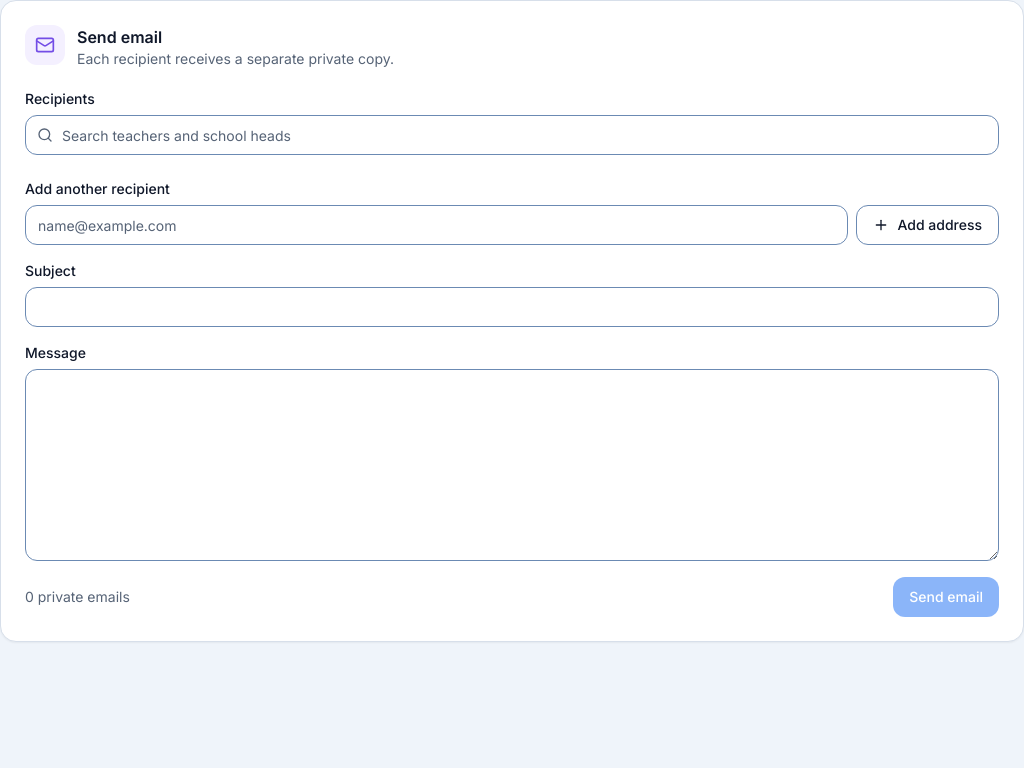
Test: AdminEmailComposer › combines selected staff and a manual address into private deliveries
Step 1. Type "Ana" into the search field labelled "Search teachers and school heads" → (512, 135), box [25, 115, 999, 155]
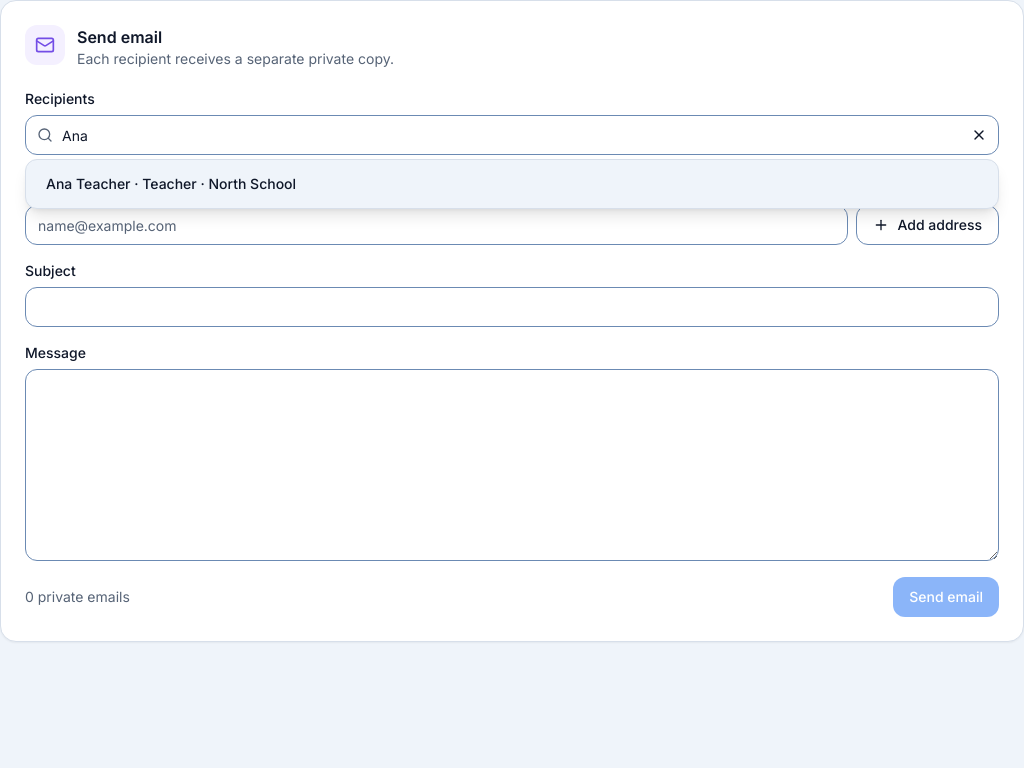
Step 2. Click the button "Ana Teacher · Teacher · North School" → (88, 184), box [30, 164, 994, 204]
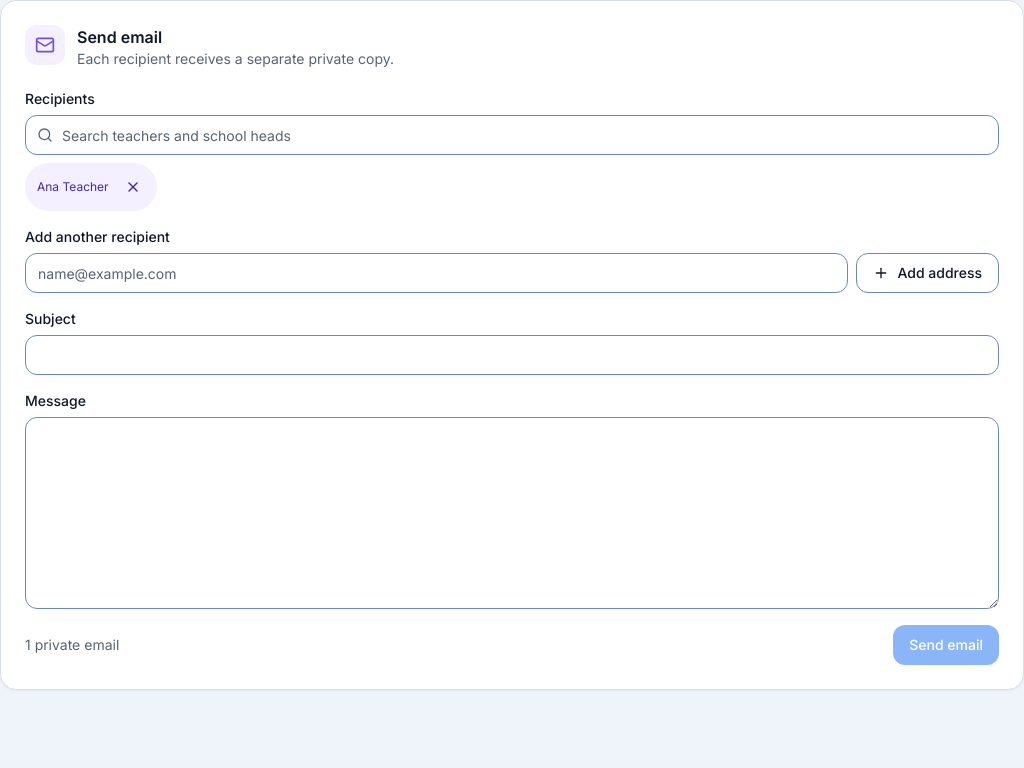
Step 3. Type "Outside@Example.com" into the field named "New email address" → (437, 273), box [25, 253, 848, 293]
Step 4. Click the button "Add address" → (928, 273), box [856, 253, 999, 293]
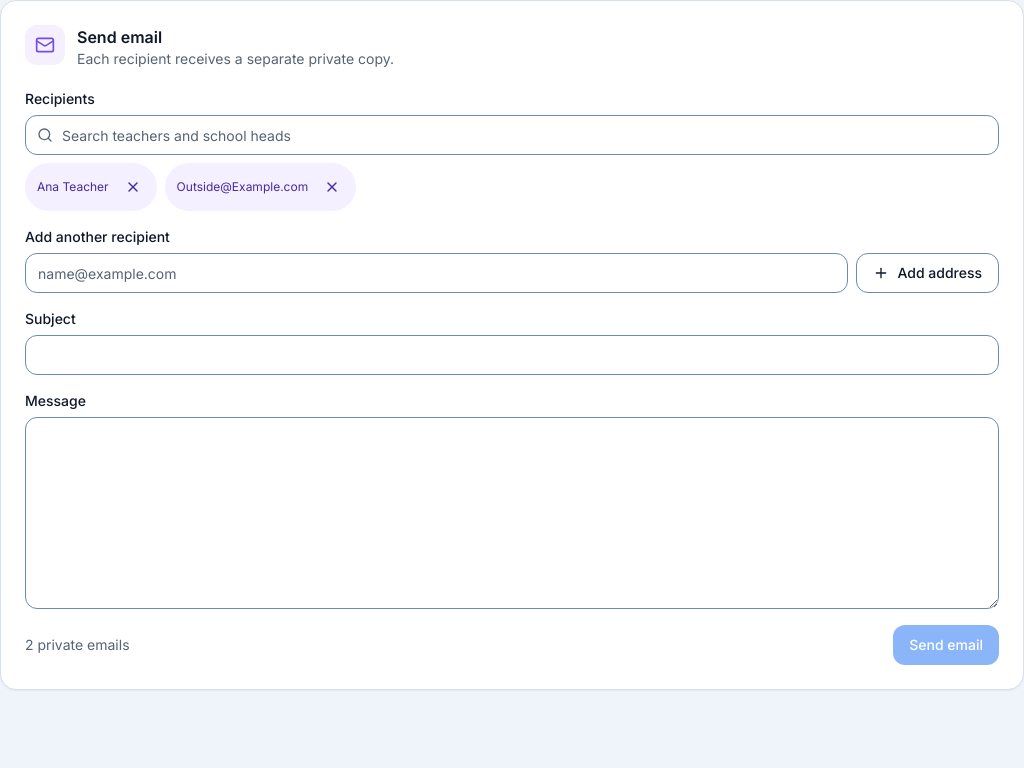
Expected: the text "2 private emails" is shown, [25, 635, 130, 655]
Step 5. Type "Notice" into the field labelled "Subject" → (512, 355), box [25, 335, 999, 375]
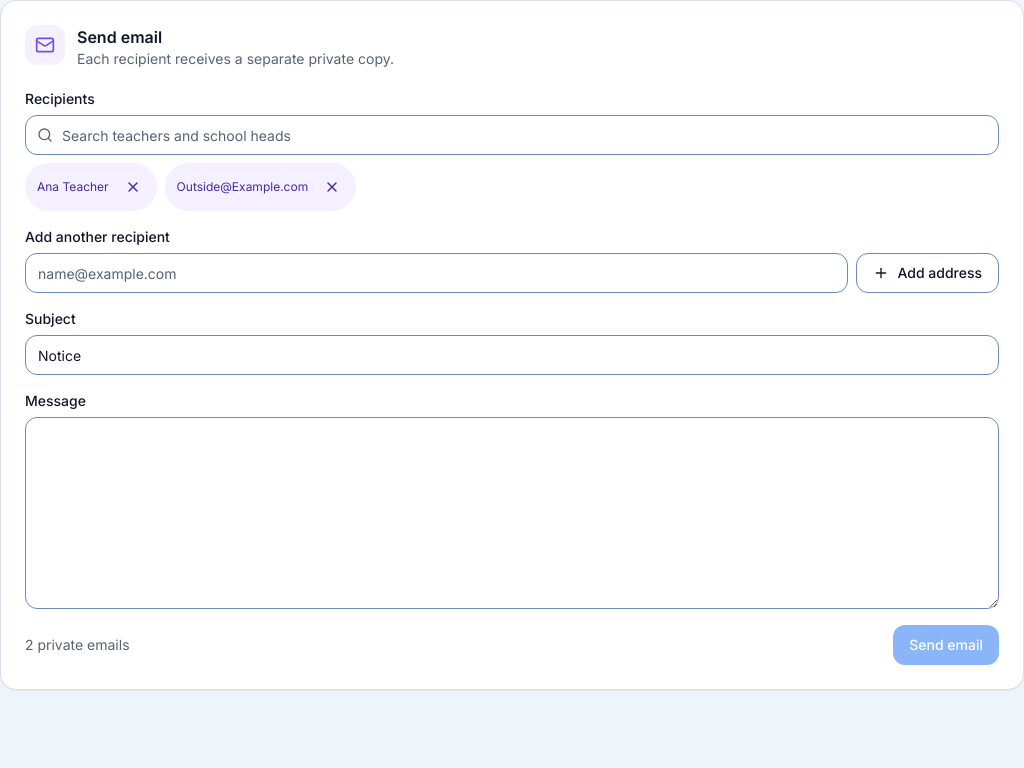
Step 6. Type "Please review." into the text box labelled "Message" → (512, 513), box [25, 417, 999, 609]
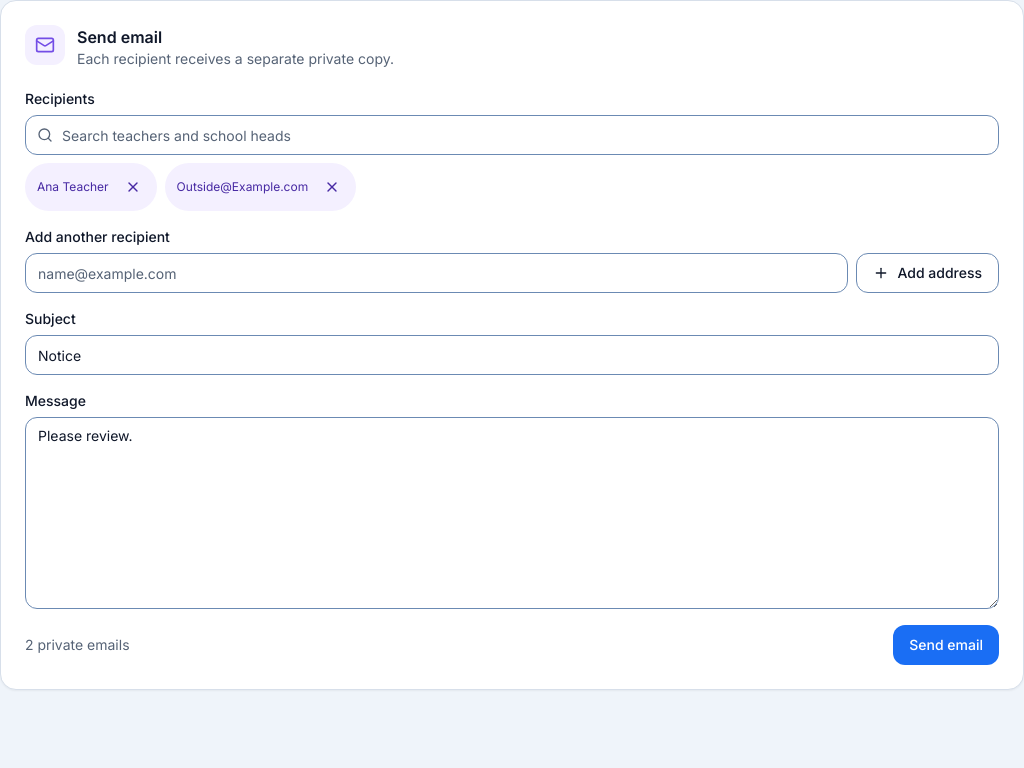
Step 7. Click the button "Send email" → (946, 645), box [893, 625, 999, 665]
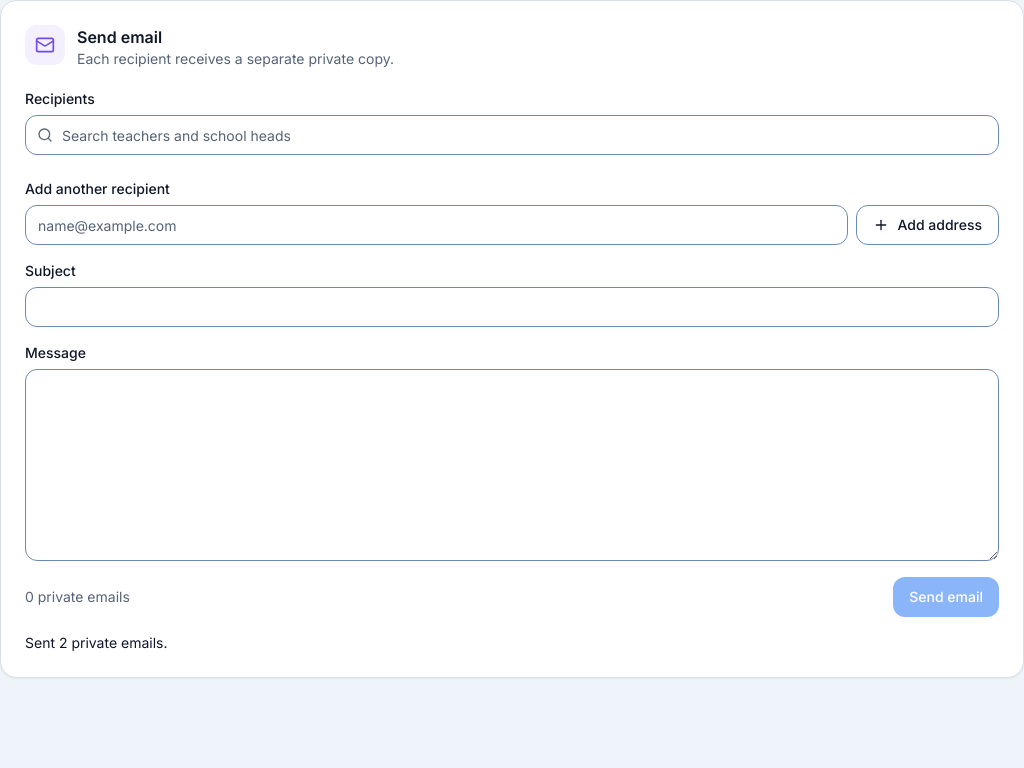
Expected: the text "Sent 2 private emails." is shown, [25, 634, 168, 651]
